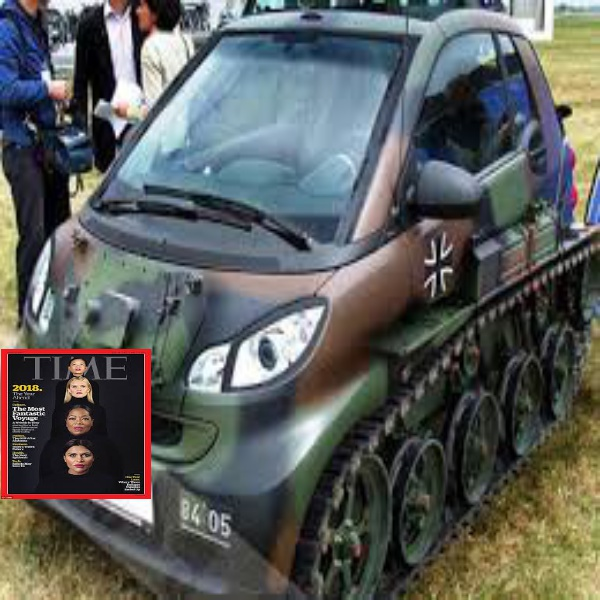time_cover: (3, 343, 158, 506)
